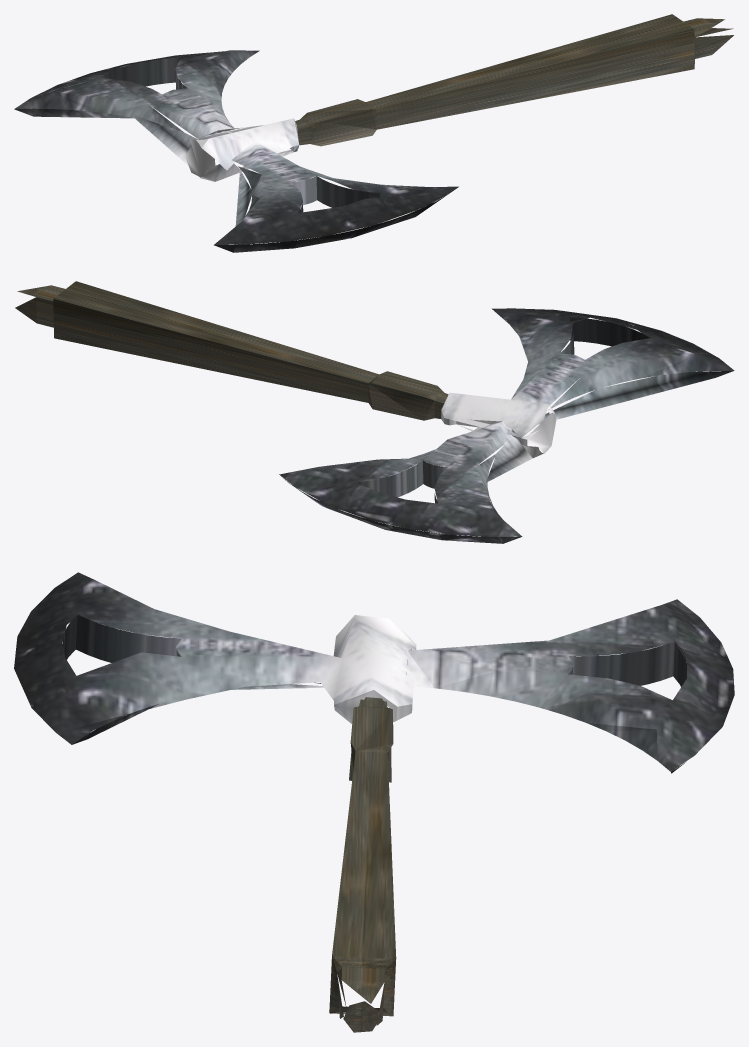
Rendered from battleaxe.glb.
The picture shows the model from 3 angles, top to bottom: view 1: azimuth 30°, elevation 25°; view 2: azimuth 150°, elevation 25°; view 3: azimuth 270°, elevation 25°; orthographic projection. The views are drawn at different scales.
Visible parts, largest first — view 1: battleaxe.ms3d.mo; view 2: battleaxe.ms3d.mo; view 3: battleaxe.ms3d.mo.
Boxes of the visible parts, x1,y1,x2,y2 form: battleaxe.ms3d.mo: (14,14,733,252); battleaxe.ms3d.mo: (15,281,734,543); battleaxe.ms3d.mo: (14,572,734,1032).
Bounding box in the file's own units: 25.08 × 1.69 × 17.52.
Materials: 2 (2 with a texture image).
